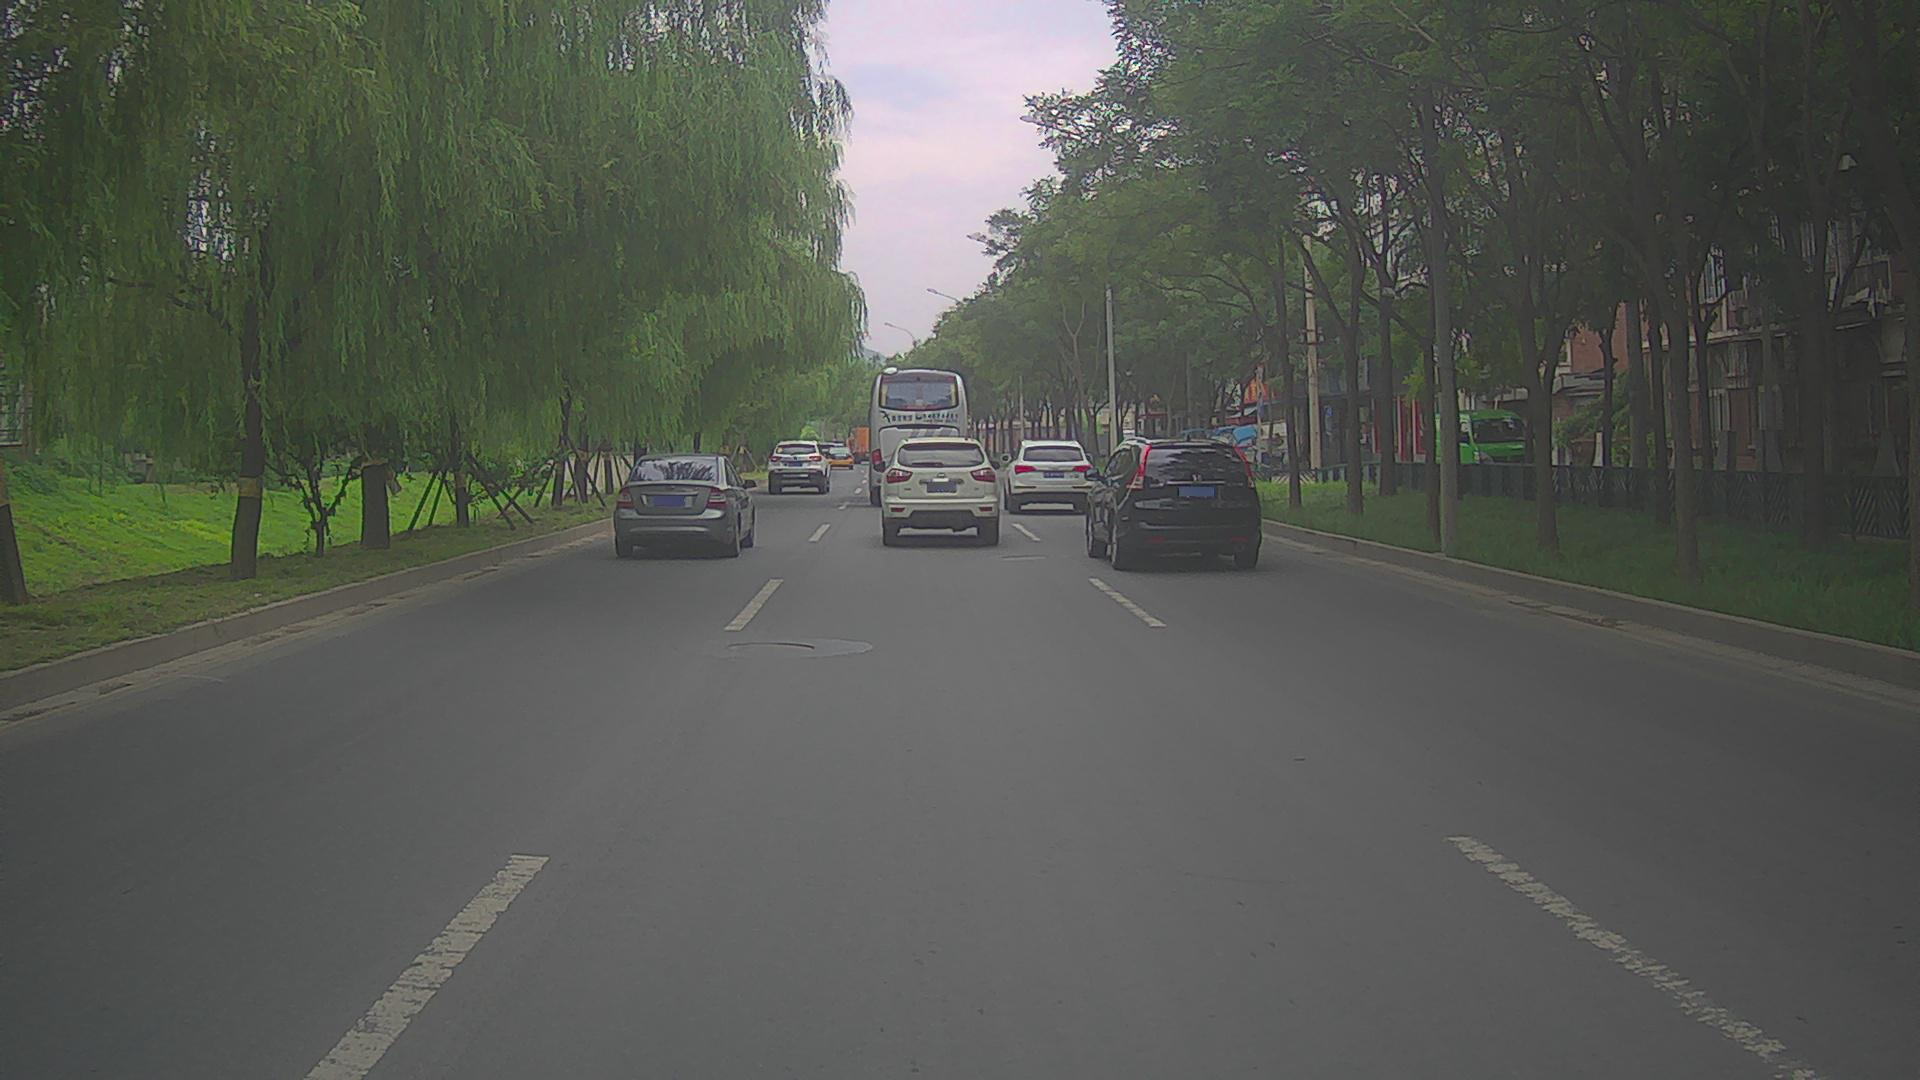bus: (866, 364, 969, 509)
car: (1083, 435, 1262, 574), (613, 452, 758, 559), (872, 435, 1002, 546), (1000, 438, 1098, 516), (765, 438, 832, 495), (822, 444, 855, 471)
ignore: (815, 425, 872, 465)
van: (1425, 407, 1538, 485)
